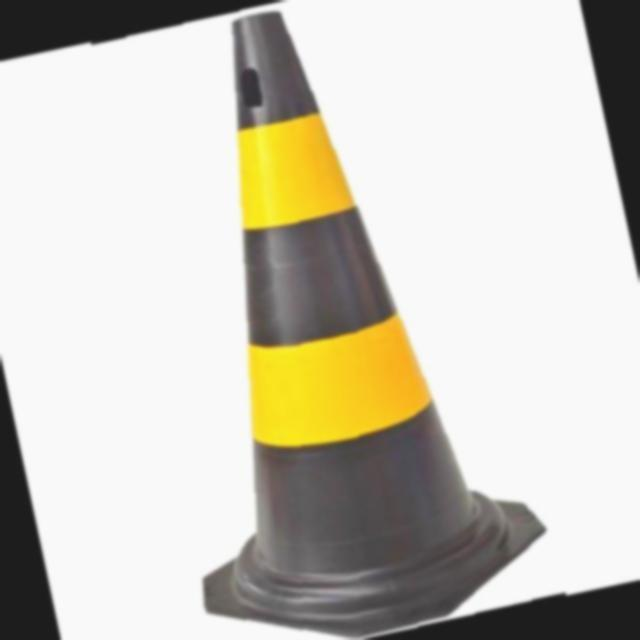traffic cone: (216, 10, 550, 638)
